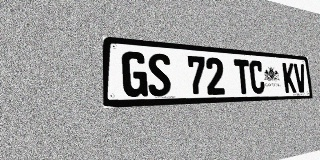2: (205, 57, 225, 95)
7: (186, 55, 207, 95)
C: (249, 60, 265, 94)
G: (122, 51, 148, 97)
K: (282, 63, 296, 93)
S: (147, 53, 171, 96)
T: (234, 59, 251, 94)
V: (293, 63, 307, 93)
